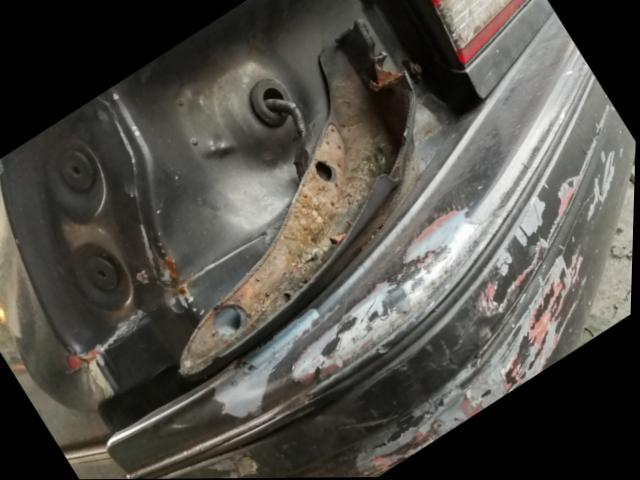no part: (2, 0, 485, 443)
scratch: (172, 98, 625, 479)
